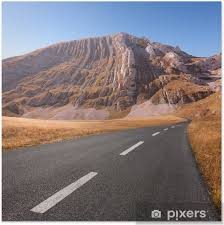strada: (7, 121, 218, 199)
